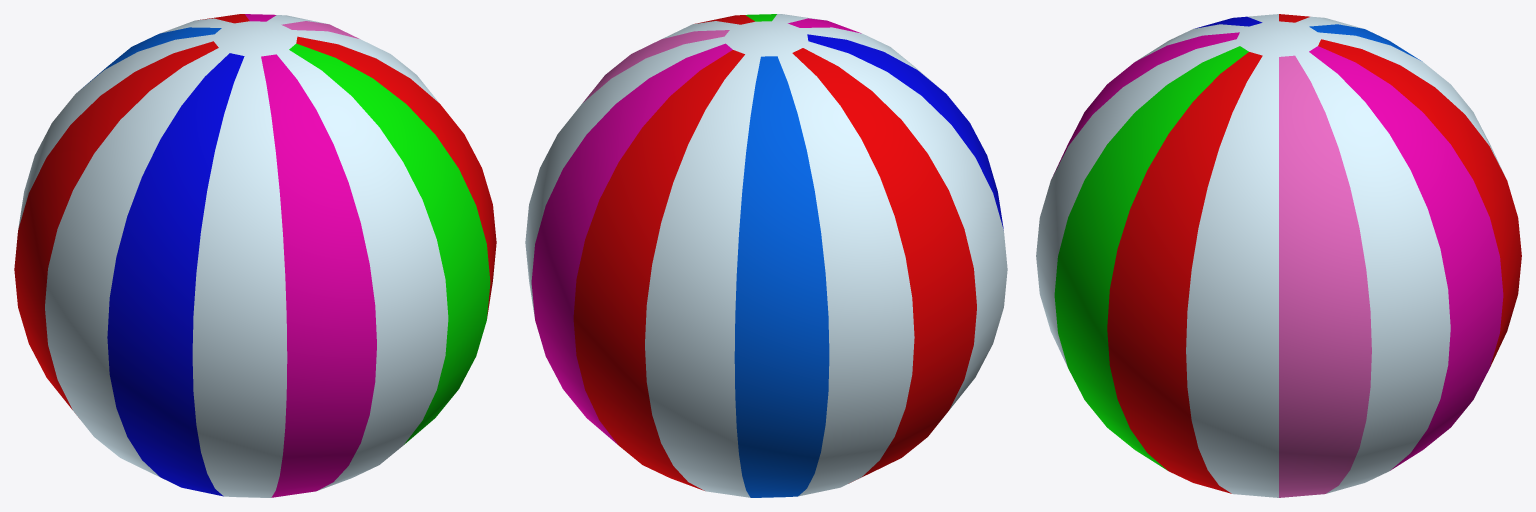
The model's file is ball.fbx.
3 renders of one model, left to right at view 1: azimuth 30°, elevation 25°; view 2: azimuth 150°, elevation 25°; view 3: azimuth 270°, elevation 25°, orthographic.
Visible parts, largest first — view 1: Sphere; view 2: Sphere; view 3: Sphere.
Part boxes in pixels (<box>): Sphere: <box>14,14,496,497</box>; Sphere: <box>525,14,1007,497</box>; Sphere: <box>1036,14,1521,497</box>.
Size of the model in its own units: 200 by 200 by 200.
